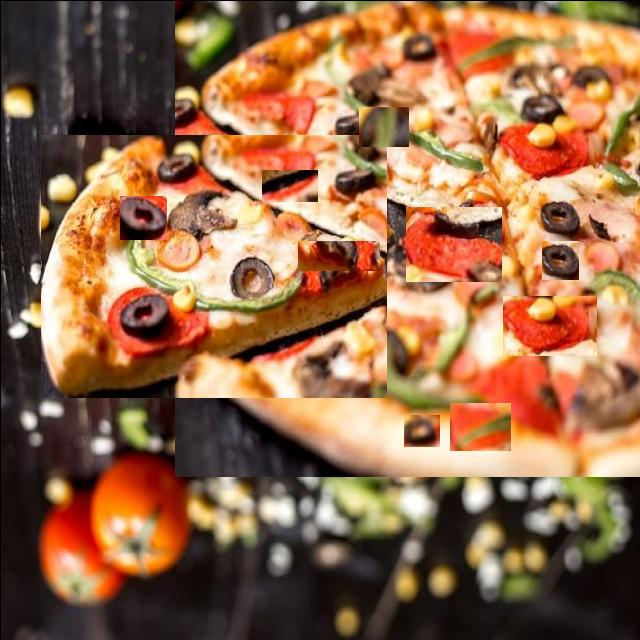olive: (227, 229, 274, 279), (119, 195, 166, 239), (358, 106, 408, 146), (320, 240, 361, 280), (541, 240, 578, 279), (336, 336, 378, 368), (155, 349, 199, 377), (518, 354, 562, 382), (403, 414, 439, 446)
pepperoni: (474, 35, 580, 121), (405, 206, 501, 281), (103, 181, 207, 249), (502, 295, 596, 355), (236, 339, 318, 391), (449, 402, 510, 450), (297, 240, 379, 270), (261, 169, 317, 201)
pizza: (174, 0, 640, 476), (40, 134, 386, 397)
